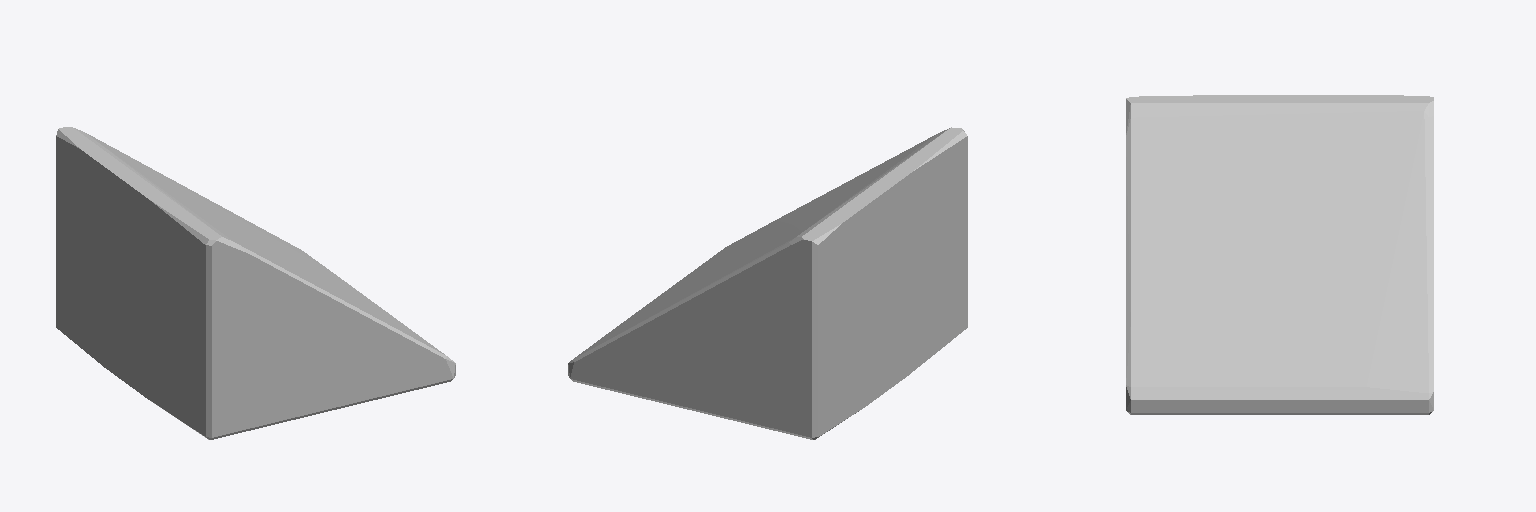
The model's file is wedge_short_stout_decimated.obj.
3 renders of one model, left to right at view 1: azimuth 30°, elevation 25°; view 2: azimuth 150°, elevation 25°; view 3: azimuth 270°, elevation 25°, orthographic.
Parts seen in each view (by area): view 1: convex_0; view 2: convex_0; view 3: convex_0.
Part boxes in pixels (x1,y1,x2,y2): convex_0: (56, 127, 455, 439); convex_0: (568, 127, 967, 439); convex_0: (1126, 95, 1433, 414).
Size of the model in its own units: 24.18 by 18.53 by 25.78.